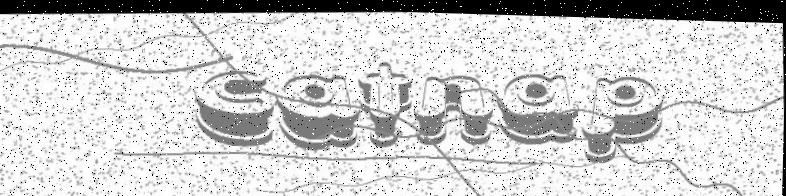a: (274, 67, 361, 151), (497, 66, 580, 144)
c: (192, 64, 277, 148)
n: (413, 69, 496, 145)
p: (579, 67, 667, 163)
t: (357, 56, 417, 147)
